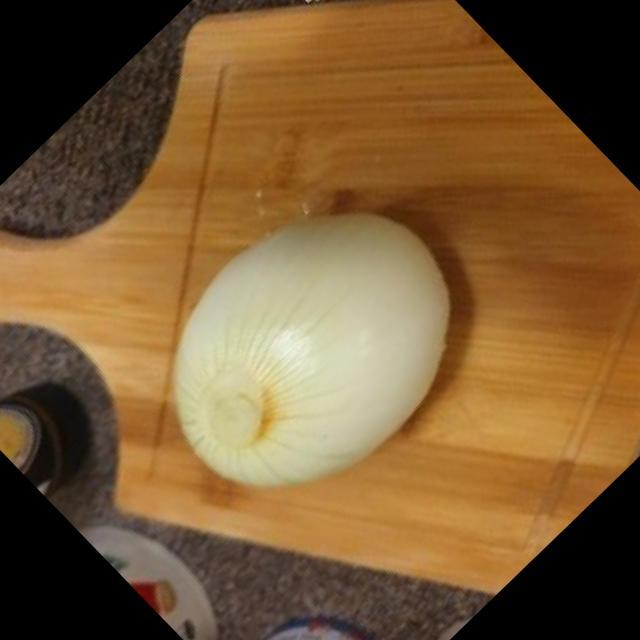Onion: (177, 214, 451, 486)
